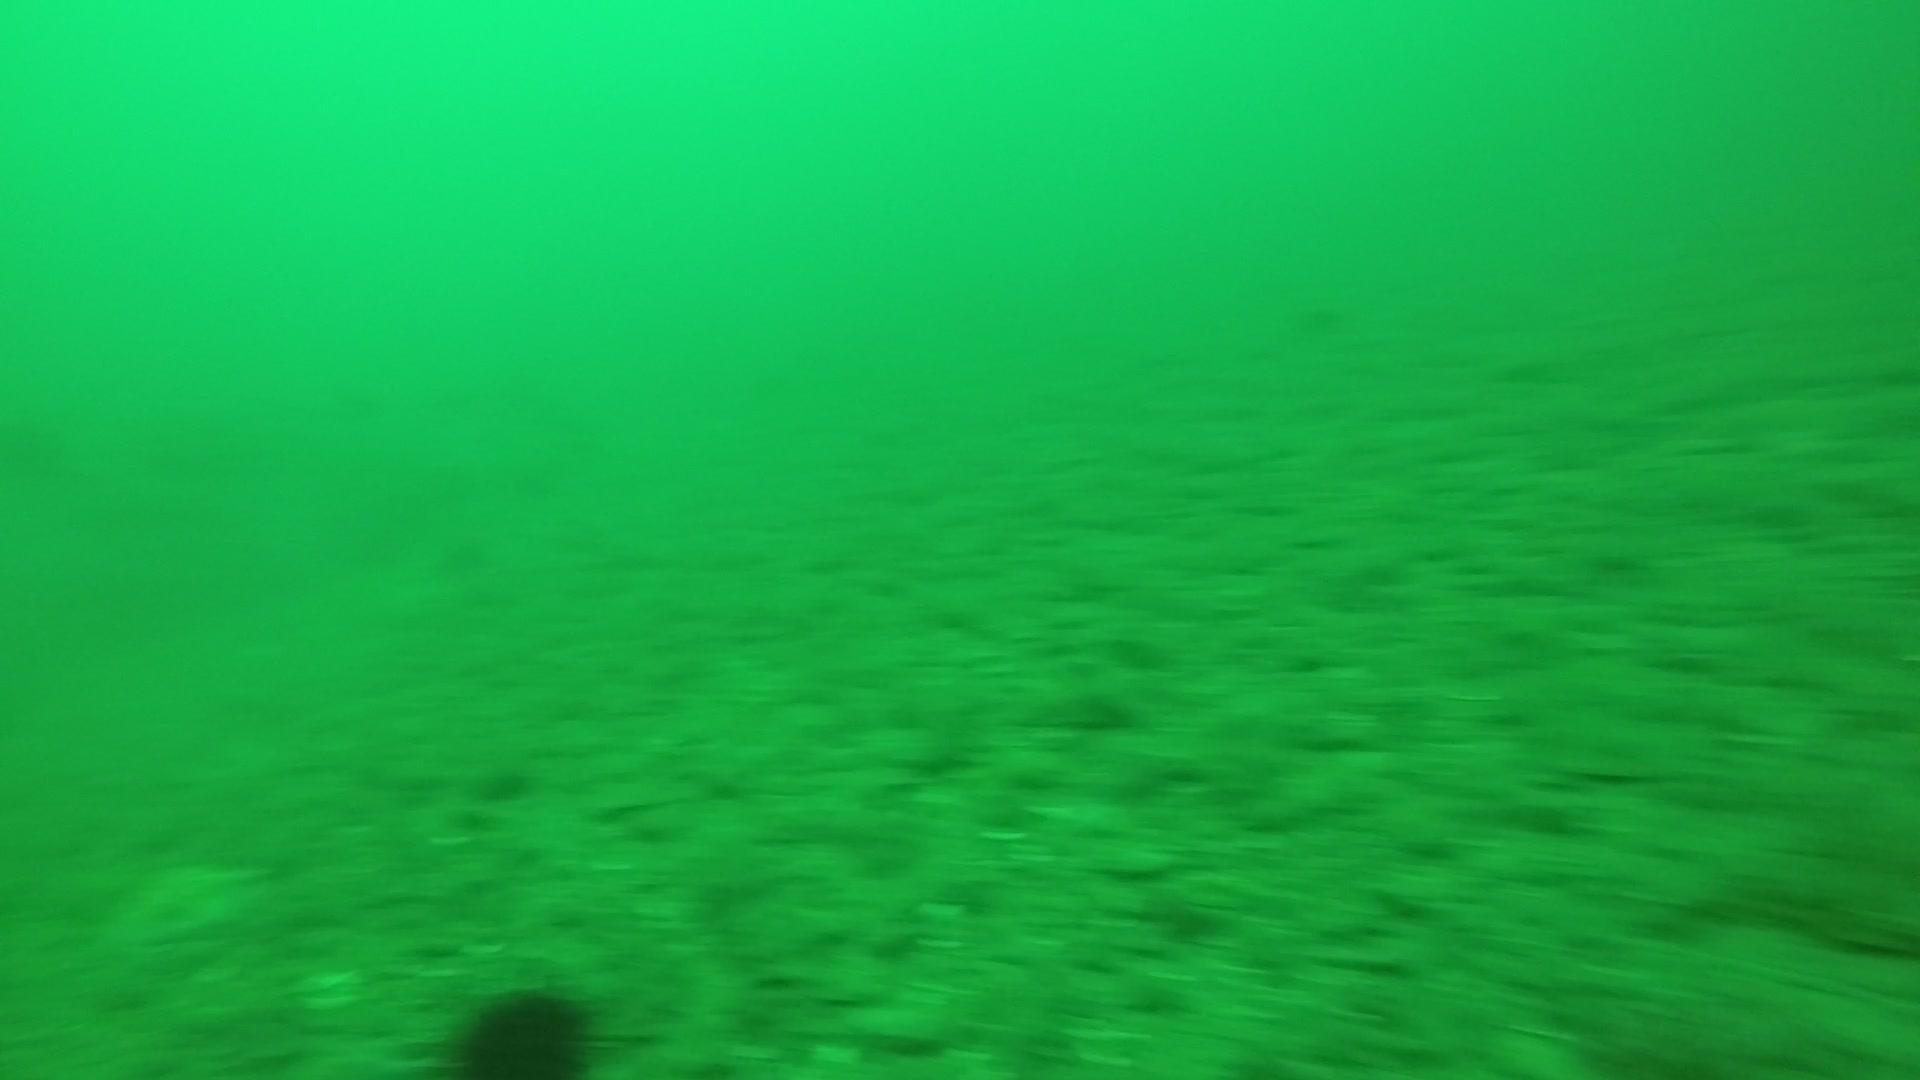echinus: (439, 978, 604, 1076)
